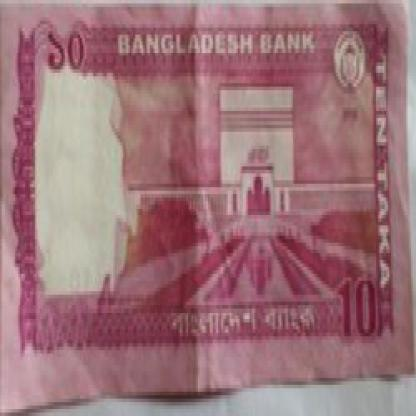Ten Taka: (333, 267, 381, 343), (43, 28, 92, 73)
